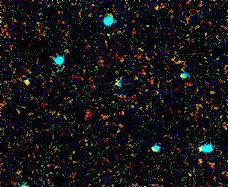star: (11, 68, 41, 98)
